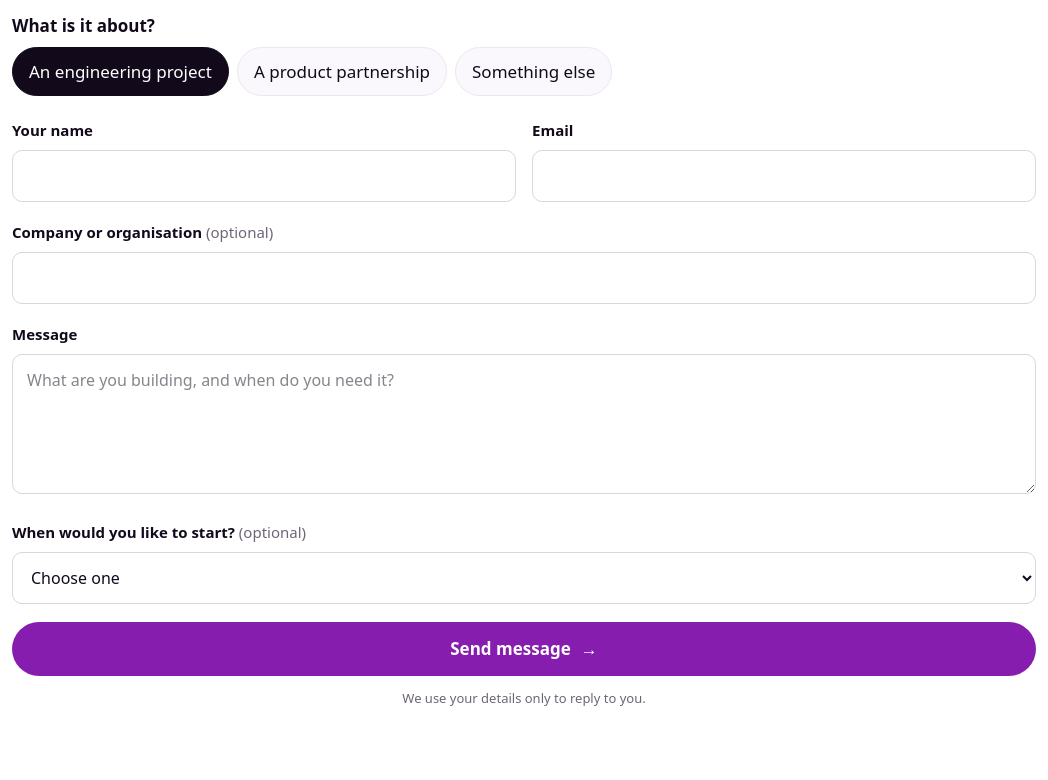
Test: EnquiryForm › without a key, submitting shows Form not configured and never the thank-you
Step 1. Type "Amina" into the field labelled "Your name" → (264, 176), box [12,150,516,202]
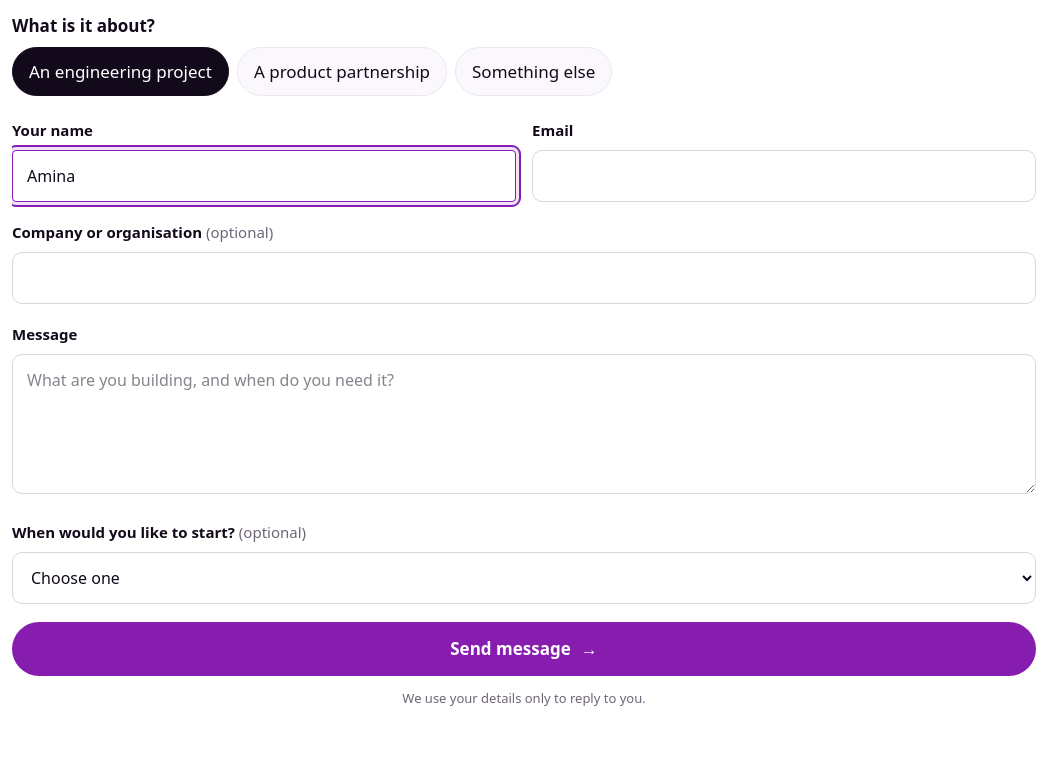
Step 2. Type "amina@example.com" into the field labelled "Email" → (784, 176), box [532,150,1036,202]
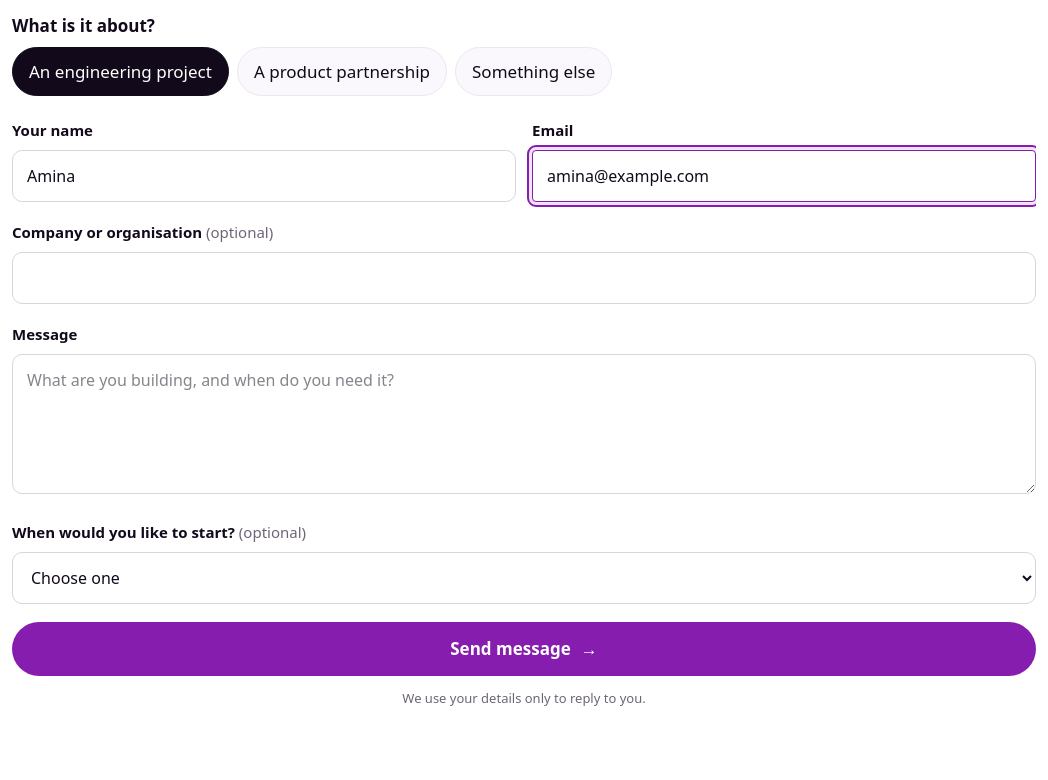
Step 3. Type "We need an API built for our app." into the text box labelled "Message" → (524, 424), box [12,354,1036,494]
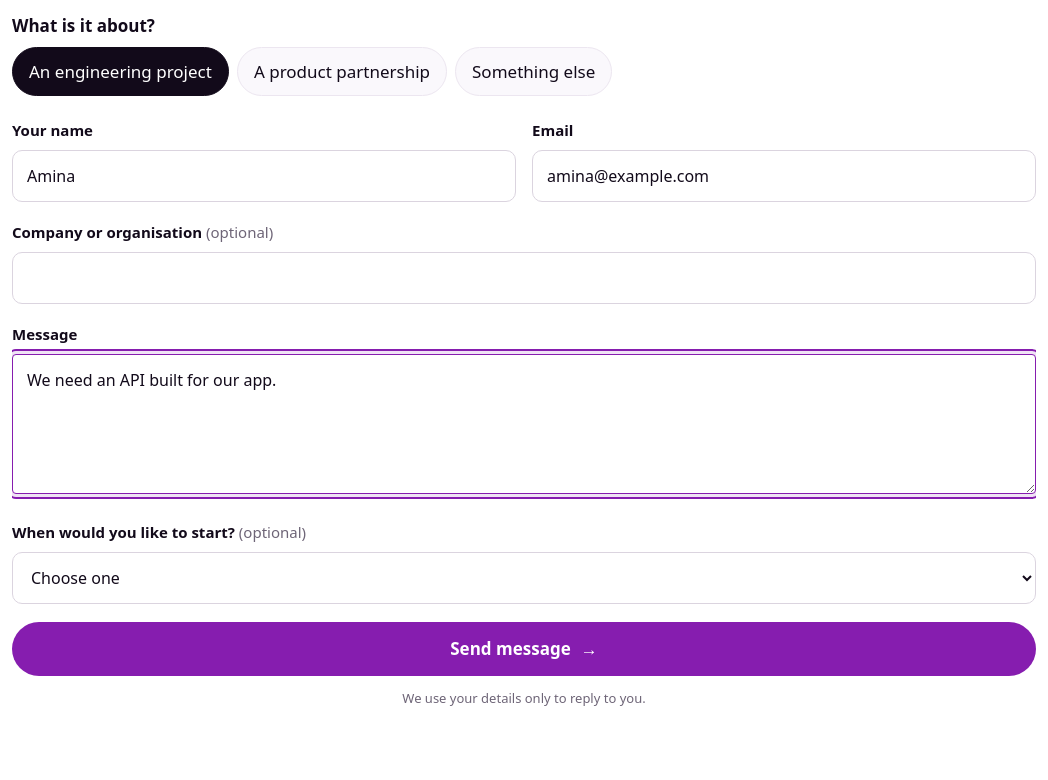
Step 4. Click the button "Send message →" → (524, 649), box [12,622,1036,676]
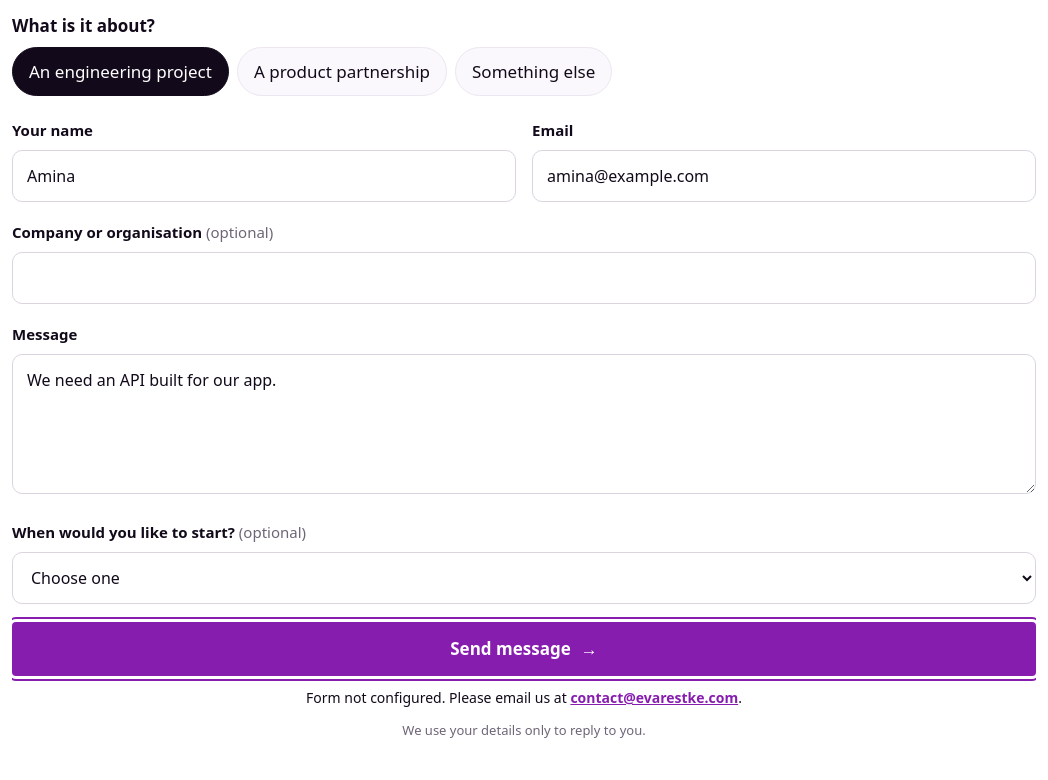
Expected: the text "Form not configured. Please email us at contact@evarestke.com ." is shown, [306,688,742,707]
